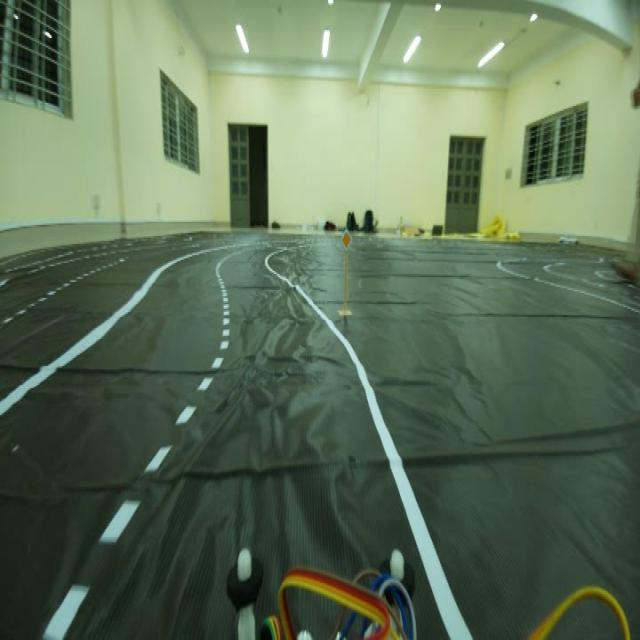priority: (338, 226, 354, 259)
